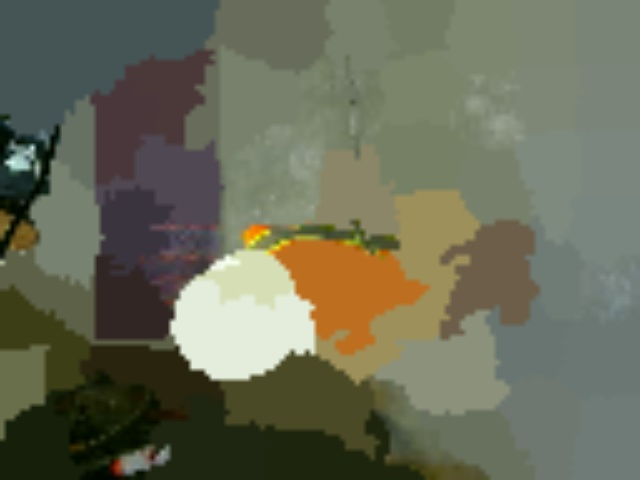eight: (219, 276, 268, 322)
